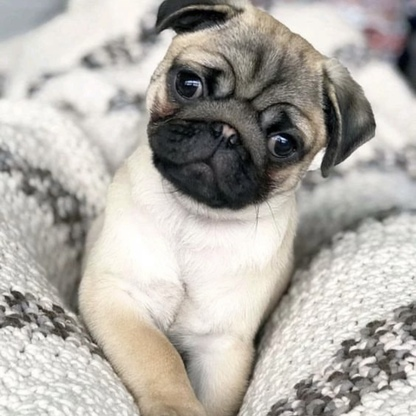Pug: (71, 1, 388, 416)
